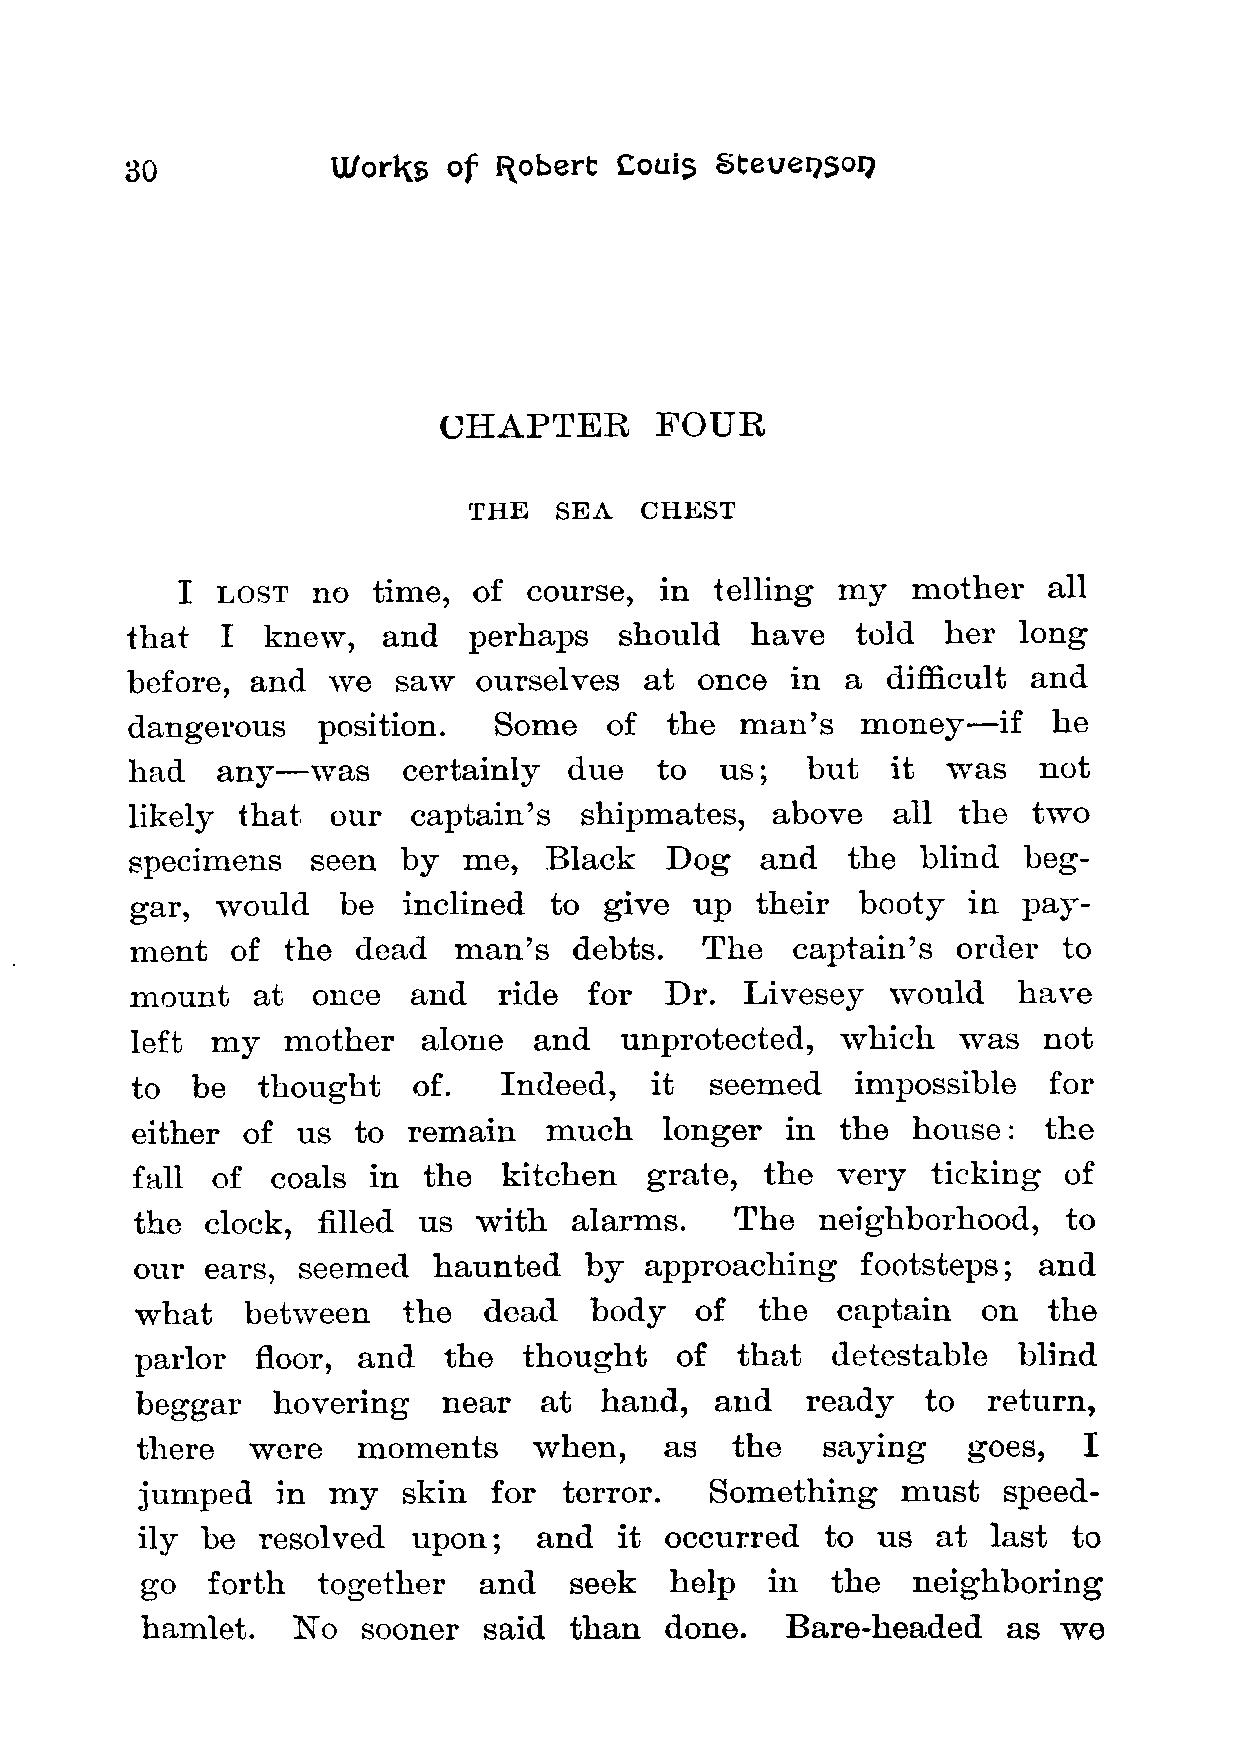chapter: (436, 407, 768, 523), (322, 149, 878, 187)
content: (123, 572, 1104, 1644)
content_pagenumber: (123, 157, 158, 187)
